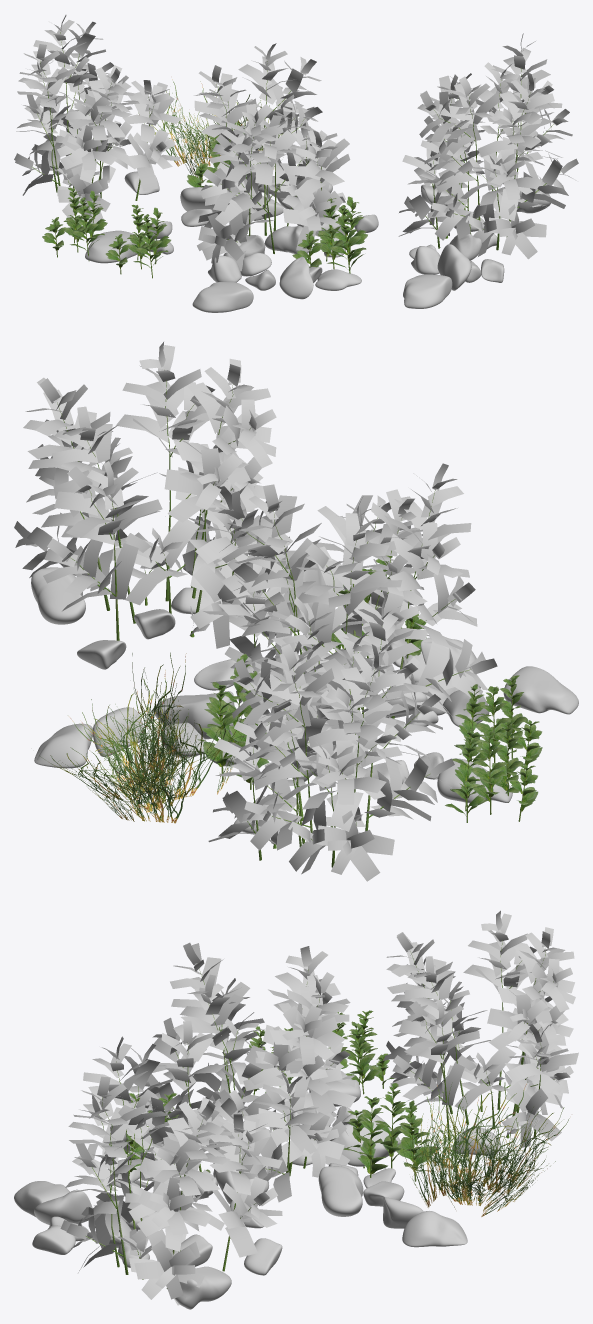
File: plantsSceneFree_edit_for_FBX.fbx
3 views of the same model, one above another, from view 1: azimuth 30°, elevation 25°; view 2: azimuth 150°, elevation 25°; view 3: azimuth 270°, elevation 25° (orthographic). The views are drawn at different scales.
Visible parts, largest first — view 1: plants01, plants02, plants03, rocks02, rocks01, plants04, grass01, plants05, plants06, rocks04, rocks03, rocks05 (+3 smaller); view 2: plants01, plants03, plants02, grass01, rocks02, plants06, rocks10, rocks07, plants05, rocks06, plants07, rocks04 (+3 smaller); view 3: plants01, plants02, plants03, grass01, rocks01, plants07, rocks06, rocks10, rocks07, plants06, rocks05, rocks09 (+3 smaller).
Boxes of the visible parts, left/top/right/bottom form: plants01: left=398, top=33, right=578, bottom=259; plants02: left=194, top=43, right=350, bottom=271; plants03: left=14, top=15, right=180, bottom=223; rocks02: left=192, top=235, right=361, bottom=312; rocks01: left=403, top=234, right=504, bottom=308; plants04: left=292, top=196, right=367, bottom=273; grass01: left=138, top=79, right=297, bottom=180; plants05: left=105, top=204, right=171, bottom=278; plants06: left=42, top=188, right=107, bottom=261; rocks04: left=85, top=221, right=173, bottom=263; rocks03: left=264, top=223, right=345, bottom=257; rocks05: left=180, top=187, right=229, bottom=226; plants01: left=14, top=342, right=276, bottom=648; plants03: left=208, top=595, right=454, bottom=881; plants02: left=203, top=463, right=497, bottom=750; grass01: left=39, top=652, right=243, bottom=823; rocks02: left=385, top=636, right=578, bottom=726; plants06: left=445, top=719, right=538, bottom=822; rocks10: left=31, top=567, right=175, bottom=669; rocks07: left=34, top=707, right=145, bottom=768; plants05: left=454, top=675, right=542, bottom=769; rocks06: left=153, top=691, right=277, bottom=766; plants07: left=197, top=653, right=269, bottom=789; rocks04: left=364, top=752, right=512, bottom=803; plants01: left=60, top=1036, right=282, bottom=1305; plants02: left=143, top=942, right=359, bottom=1202; plants03: left=383, top=910, right=578, bottom=1147; grass01: left=401, top=1078, right=569, bottom=1216; rocks01: left=14, top=1181, right=149, bottom=1267; plants07: left=343, top=1083, right=440, bottom=1181; rocks06: left=318, top=1163, right=404, bottom=1216; rocks10: left=172, top=1234, right=282, bottom=1309; rocks07: left=383, top=1197, right=467, bottom=1247; plants06: left=328, top=1010, right=394, bottom=1094; rocks05: left=292, top=1111, right=400, bottom=1166; rocks09: left=452, top=1127, right=501, bottom=1155.
Bounding box in the file's own units: 1074 × 425 × 982.
